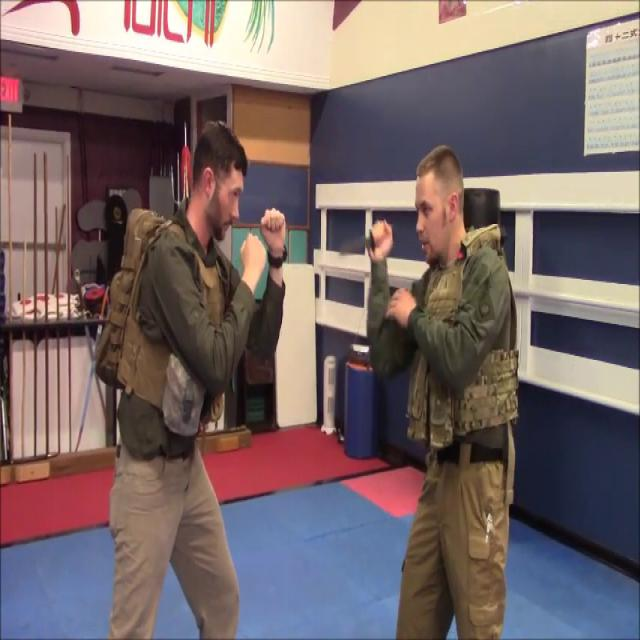knife: (333, 222, 397, 273)
